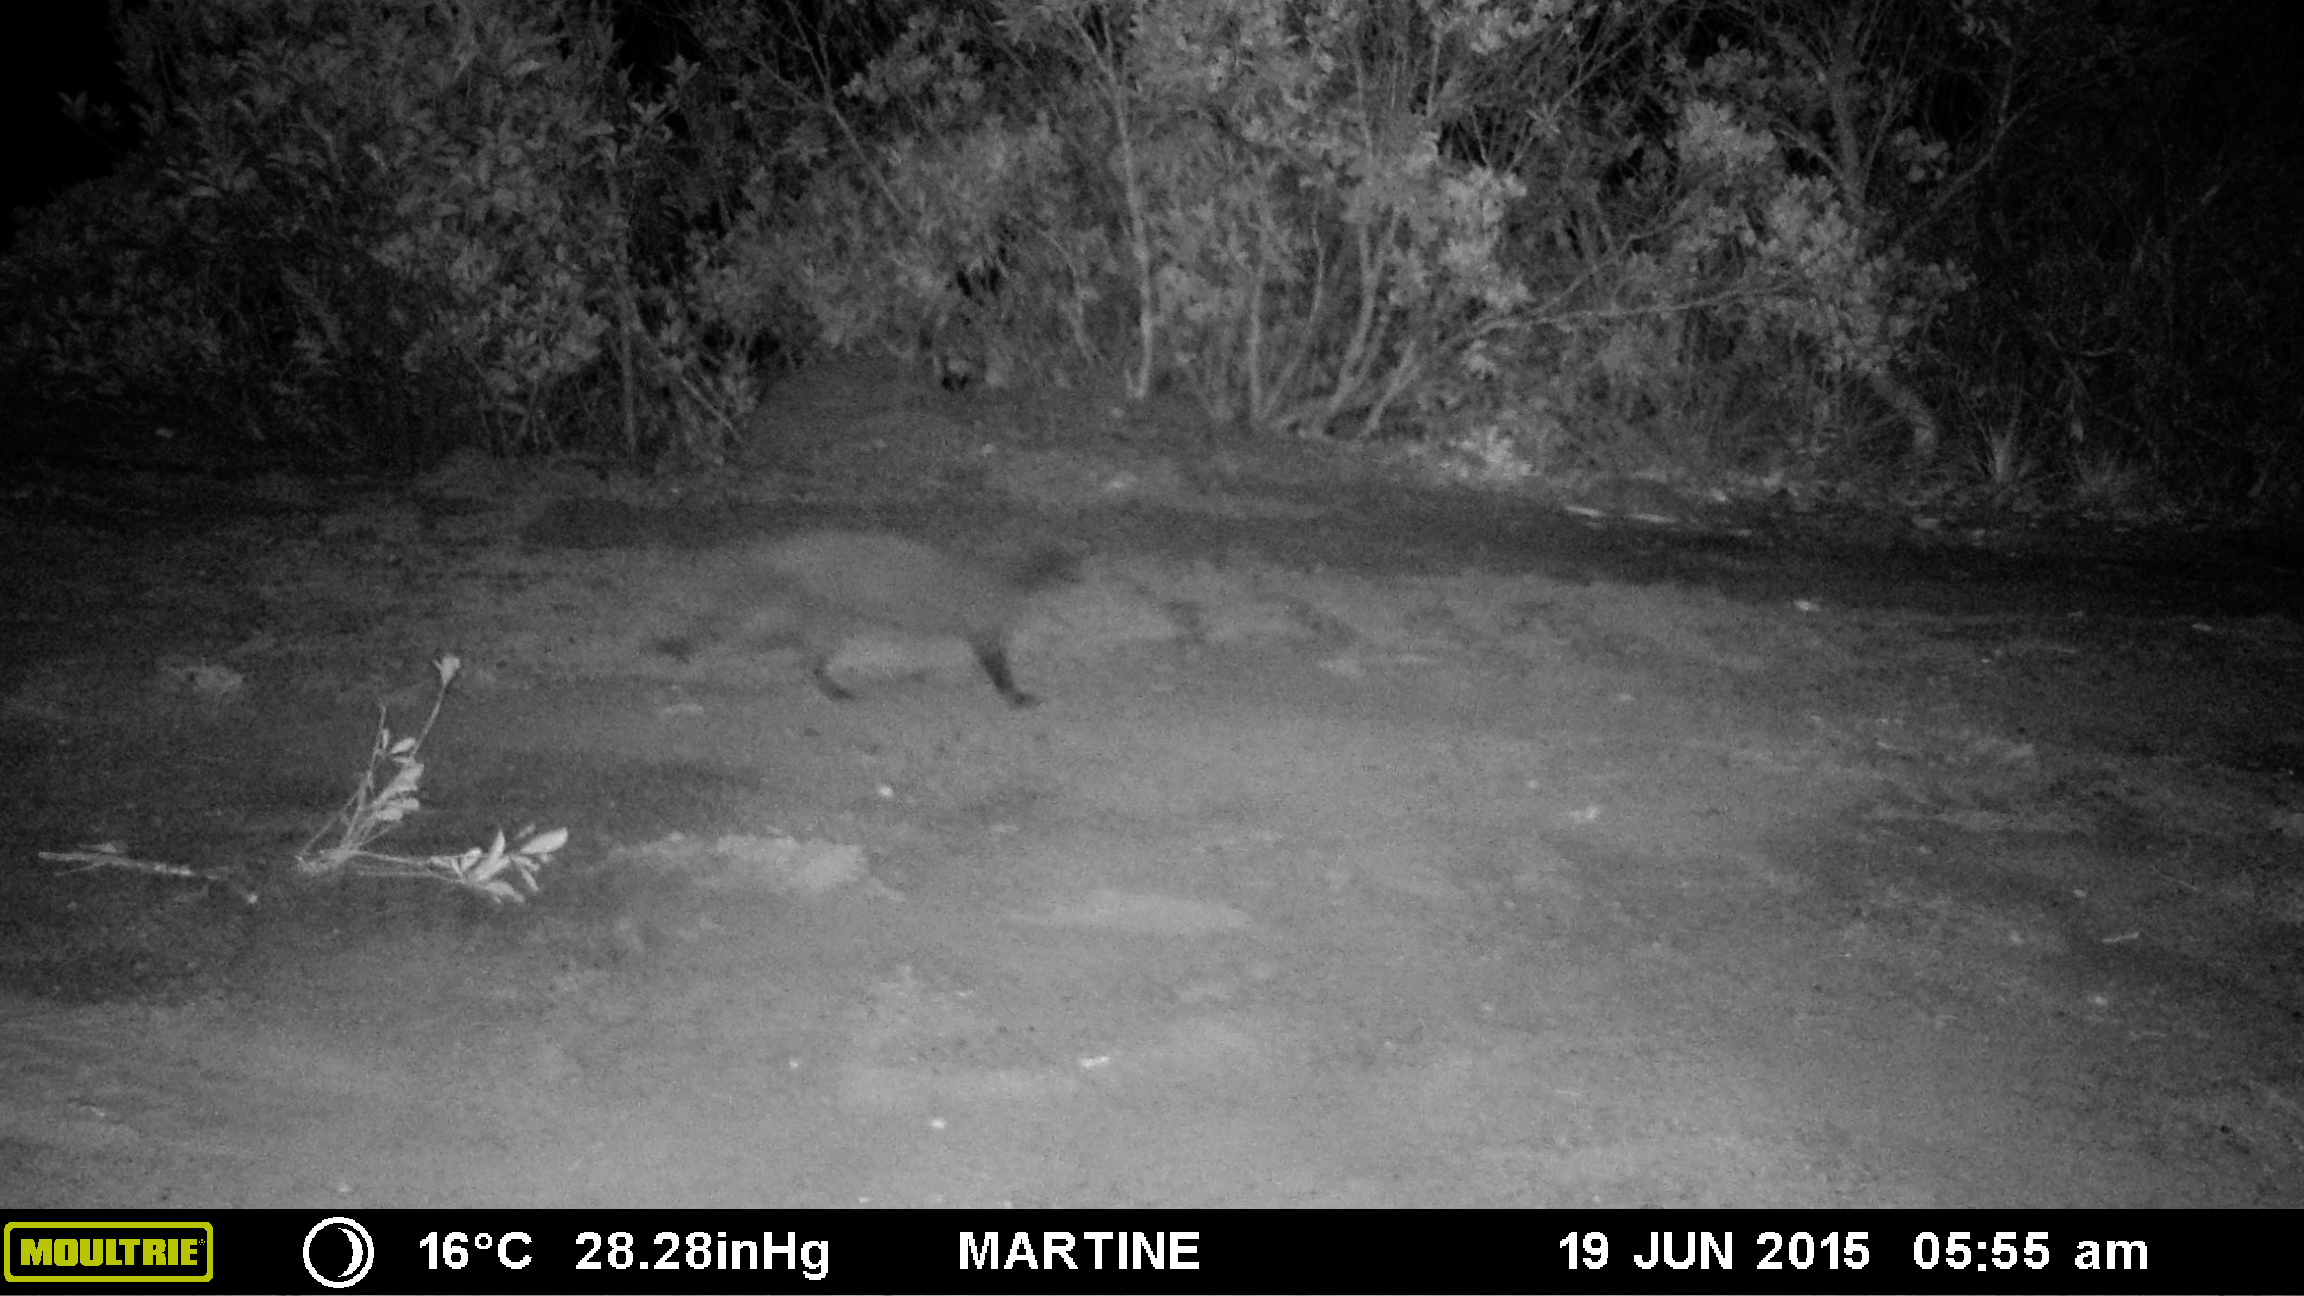cat: (628, 506, 1119, 714)
